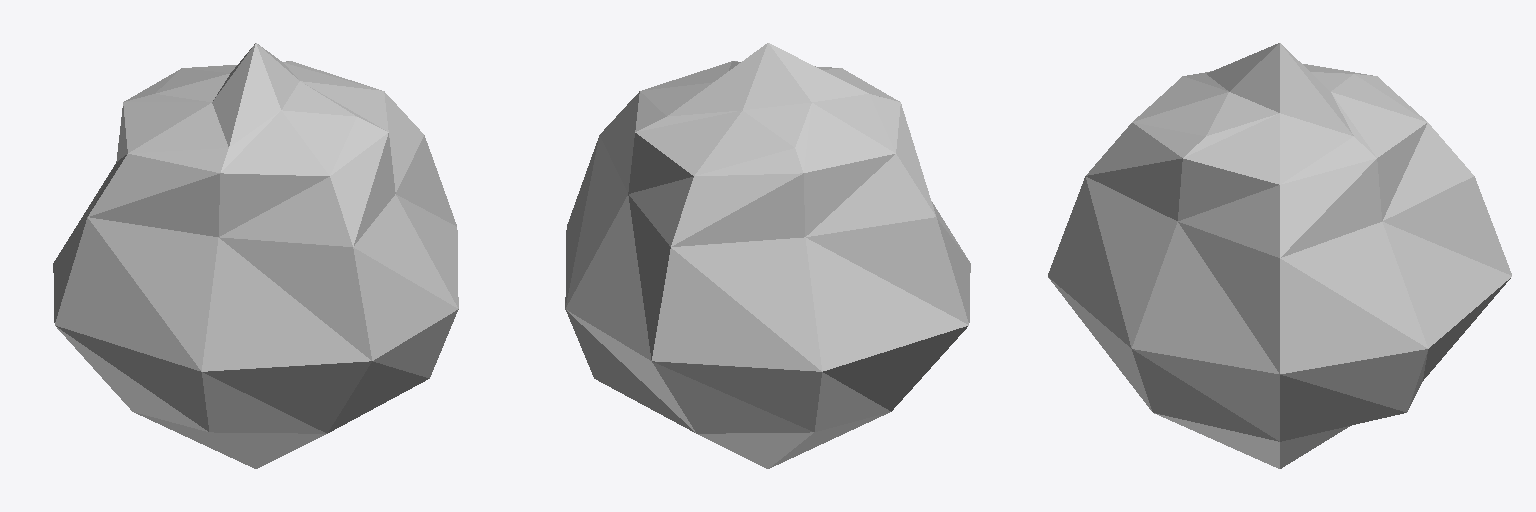
The model's file is Item_test.obj.
3 views of the same model, side by side, from view 1: azimuth 30°, elevation 25°; view 2: azimuth 150°, elevation 25°; view 3: azimuth 270°, elevation 25° (orthographic).
Visible parts, largest first — view 1: Icosphere; view 2: Icosphere; view 3: Icosphere.
Boxes of the visible parts, <box> form: Icosphere: <box>53,43,458,468</box>; Icosphere: <box>565,43,970,468</box>; Icosphere: <box>1048,43,1511,468</box>.
Bounding box in the file's own units: 0.2313 × 0.2342 × 0.2313.